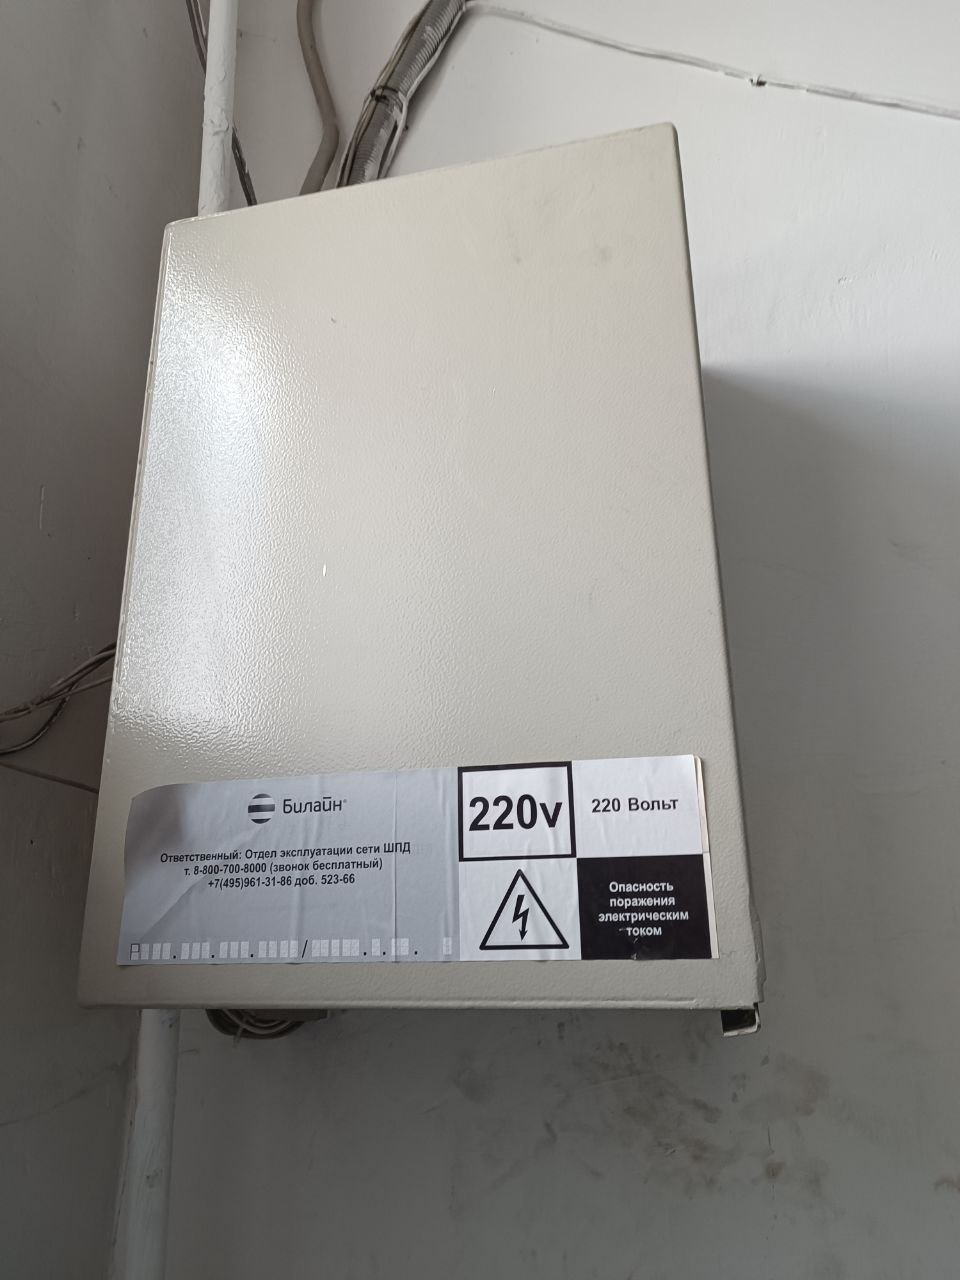sv-5: (69, 114, 773, 1035)
